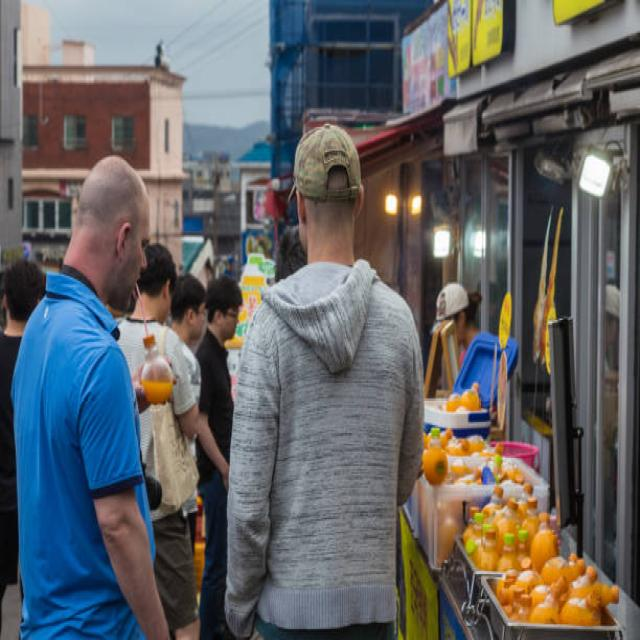Emperan: (219, 89, 640, 639)
